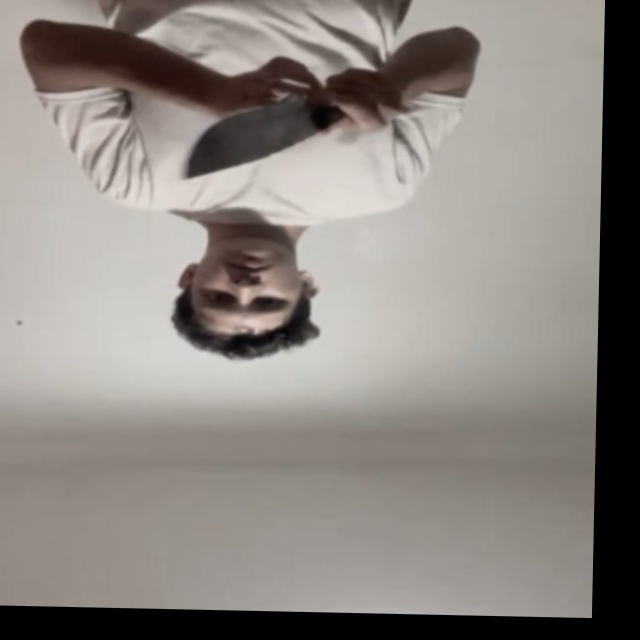Sharp-Object: (179, 90, 315, 182)
